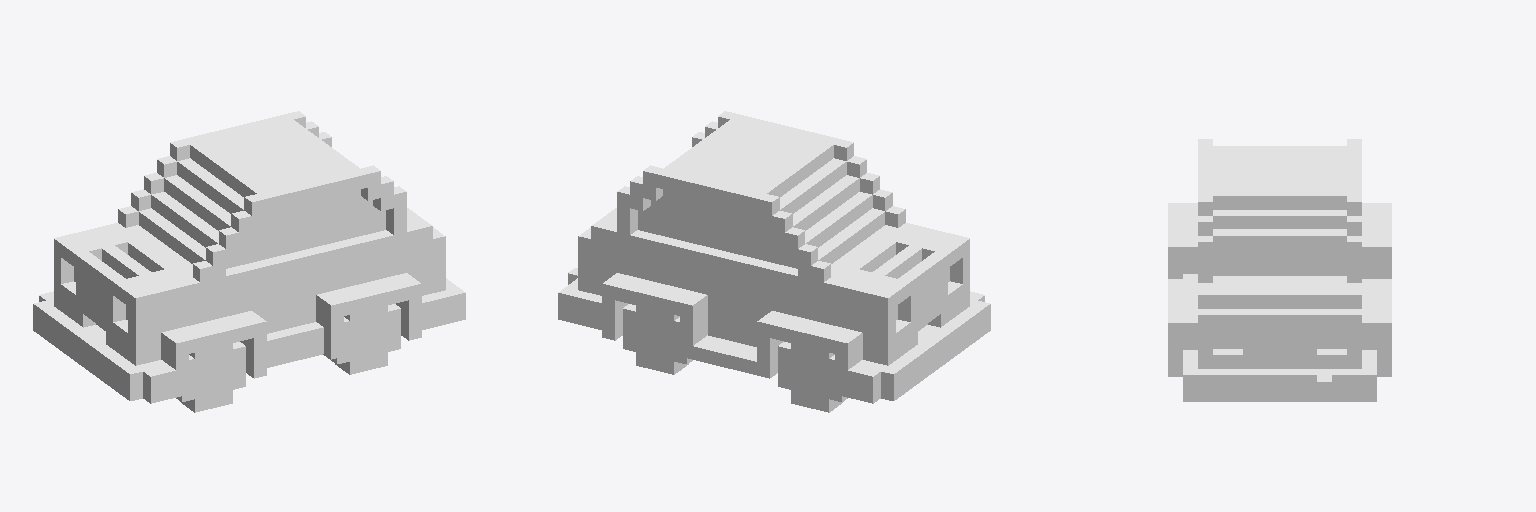
Rendered from lilcar.obj.
3 views of the same model, side by side, from view 1: azimuth 30°, elevation 25°; view 2: azimuth 150°, elevation 25°; view 3: azimuth 270°, elevation 25° (orthographic).
Visible parts, largest first — view 1: object 1; view 2: object 1; view 3: object 1.
Boxes of the visible parts, x1,y1,x2,y2 form: object 1: [33, 111, 465, 412]; object 1: [558, 111, 990, 412]; object 1: [1168, 139, 1391, 401].
Size of the model in its own units: 2.7 by 1.4 by 1.5.